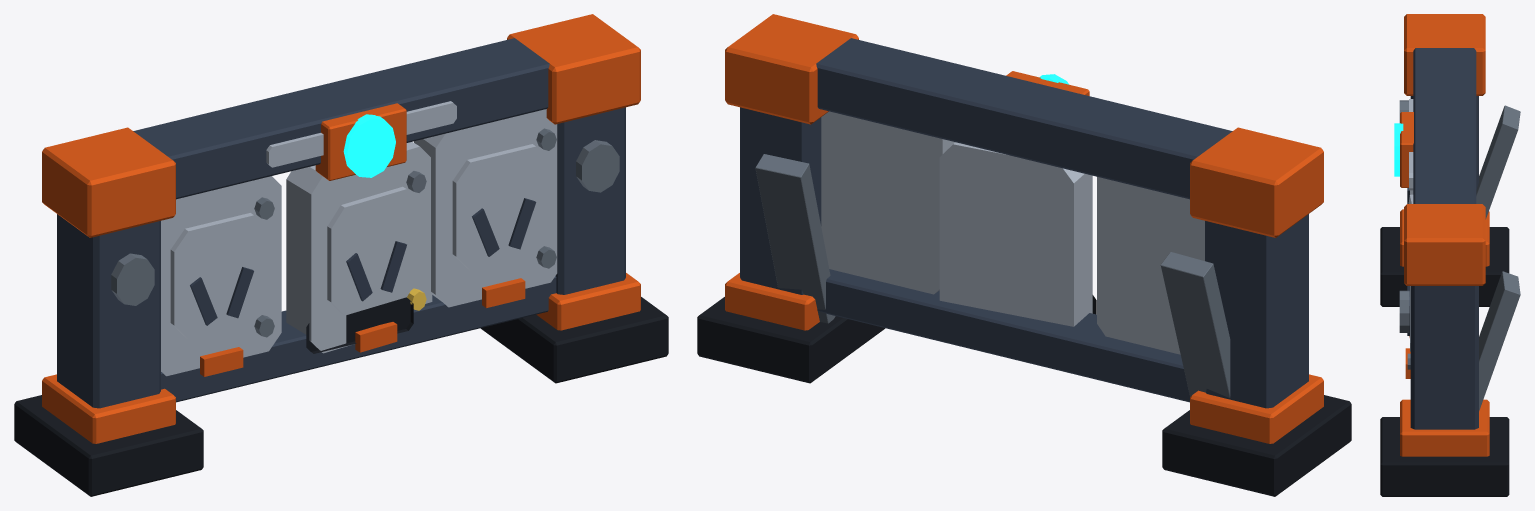
File: barricade__damaged.glb
3 renders of one model, left to right at view 1: azimuth 30°, elevation 25°; view 2: azimuth 150°, elevation 25°; view 3: azimuth 270°, elevation 25°, orthographic. The views are drawn at different scales.
Parts seen in each view (by area): view 1: ROLE_primary, ROLE_secondary, ROLE_accent, ROLE_rubber, ROLE_bareMetal, ROLE_interaction; view 2: ROLE_primary, ROLE_secondary, ROLE_accent, ROLE_rubber, ROLE_bareMetal; view 3: ROLE_primary, ROLE_accent, ROLE_rubber, ROLE_bareMetal, ROLE_secondary, ROLE_interaction.
Boxes of the visible parts, box(x1,y1,x2,y2) form: ROLE_primary: box(57, 38, 625, 408); ROLE_secondary: box(161, 101, 557, 376); ROLE_accent: box(42, 14, 640, 443); ROLE_rubber: box(14, 297, 668, 496); ROLE_bareMetal: box(111, 128, 619, 337); ROLE_interaction: box(343, 114, 395, 177); ROLE_primary: box(740, 38, 1308, 408); ROLE_secondary: box(821, 111, 1204, 354); ROLE_accent: box(725, 14, 1323, 443); ROLE_rubber: box(697, 295, 1351, 496); ROLE_bareMetal: box(755, 154, 1230, 397); ROLE_primary: box(1407, 48, 1478, 429); ROLE_accent: box(1400, 14, 1489, 456); ROLE_rubber: box(1380, 227, 1509, 496); ROLE_bareMetal: box(1399, 100, 1520, 410); ROLE_secondary: box(1408, 99, 1413, 351); ROLE_interaction: box(1394, 123, 1403, 176).
Size of the model in its own units: 8 by 4 by 2.
